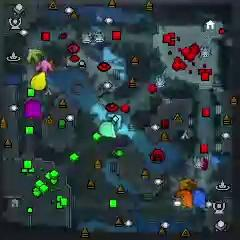p1: (191, 189, 206, 209)
p2: (99, 121, 116, 138)
p3: (25, 99, 42, 119)
p4: (30, 72, 47, 91)
p5: (176, 190, 193, 208)
x1: (35, 59, 53, 73)
x2: (26, 47, 44, 66)
x3: (105, 113, 122, 131)
x5: (179, 177, 195, 190)
